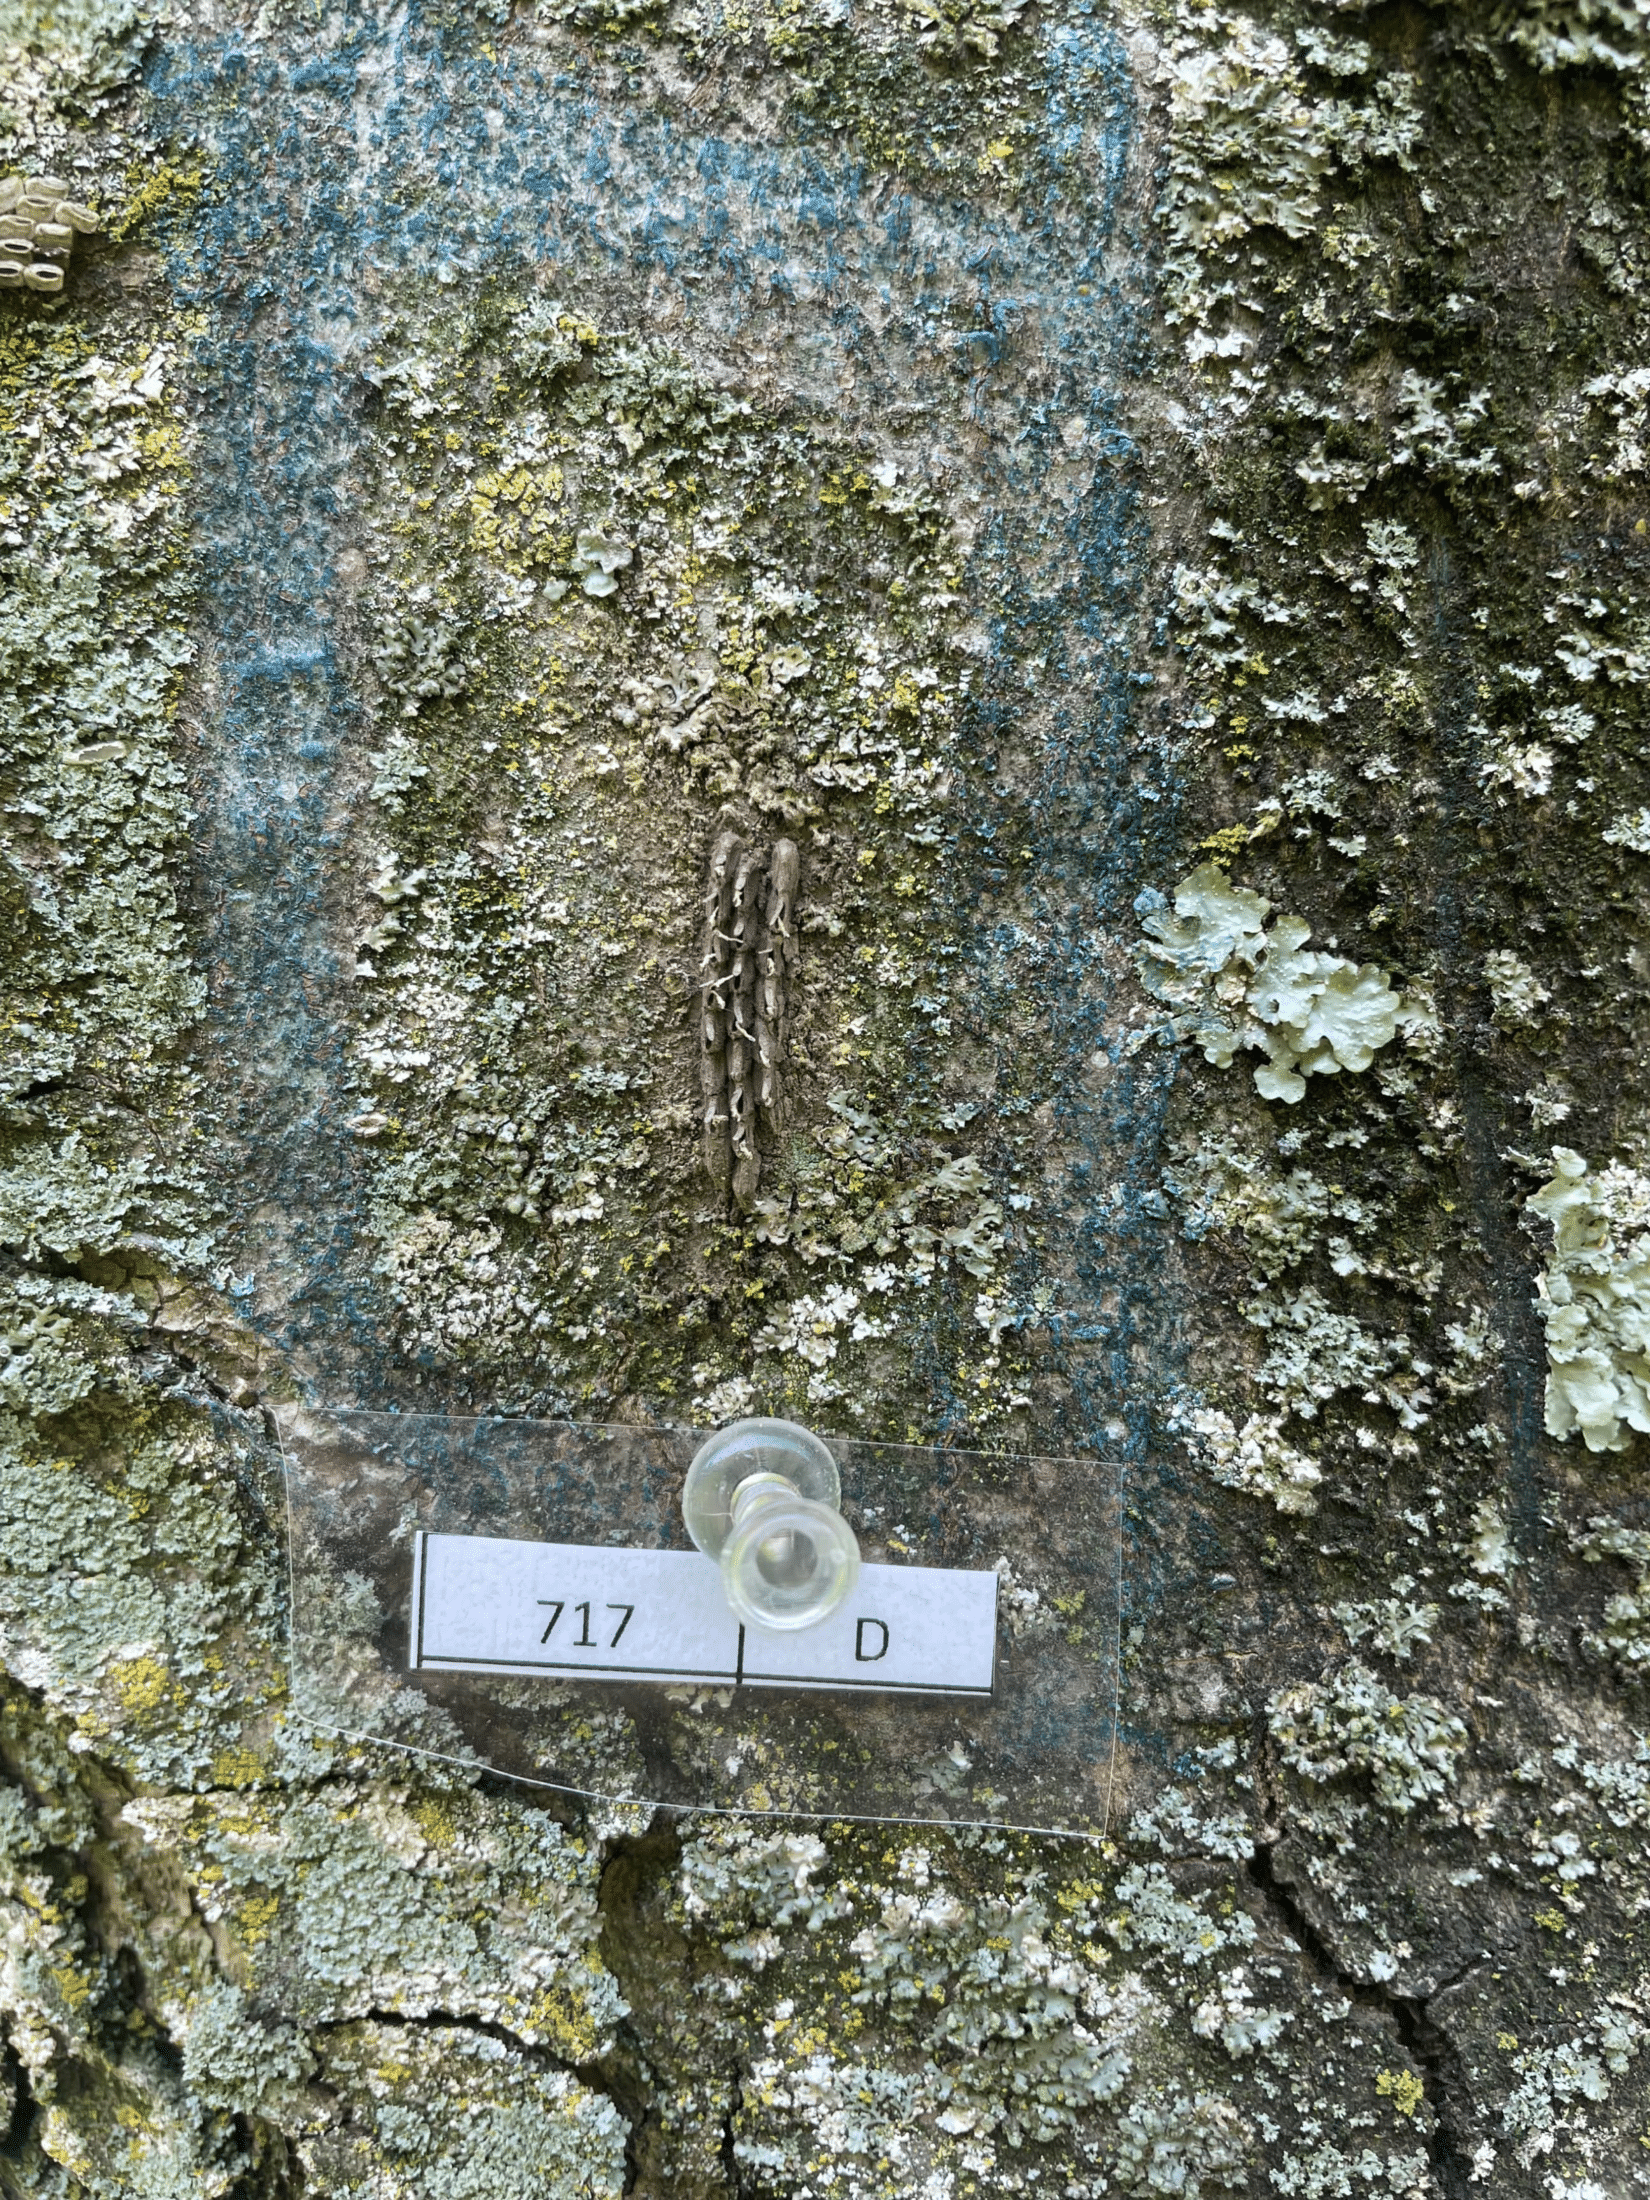egg masses: (702, 818, 785, 1187)
